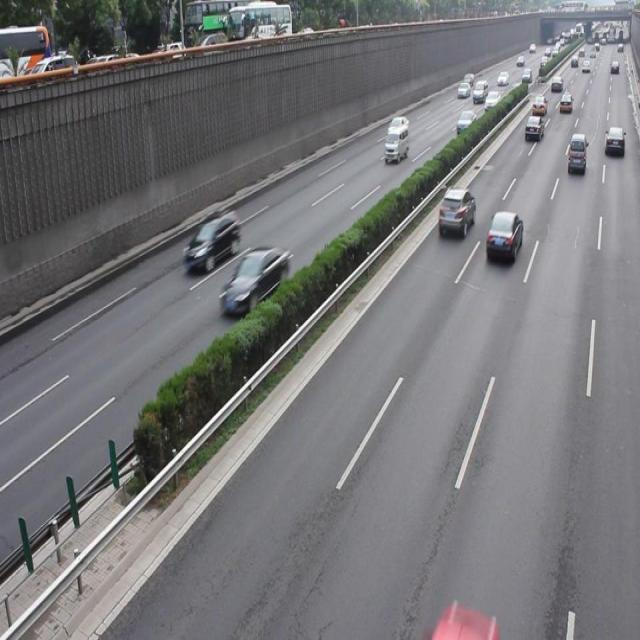car: (221, 243, 288, 314), (183, 207, 240, 274), (484, 210, 523, 262), (437, 184, 475, 237)
truck: (383, 123, 408, 165), (567, 132, 586, 176)
